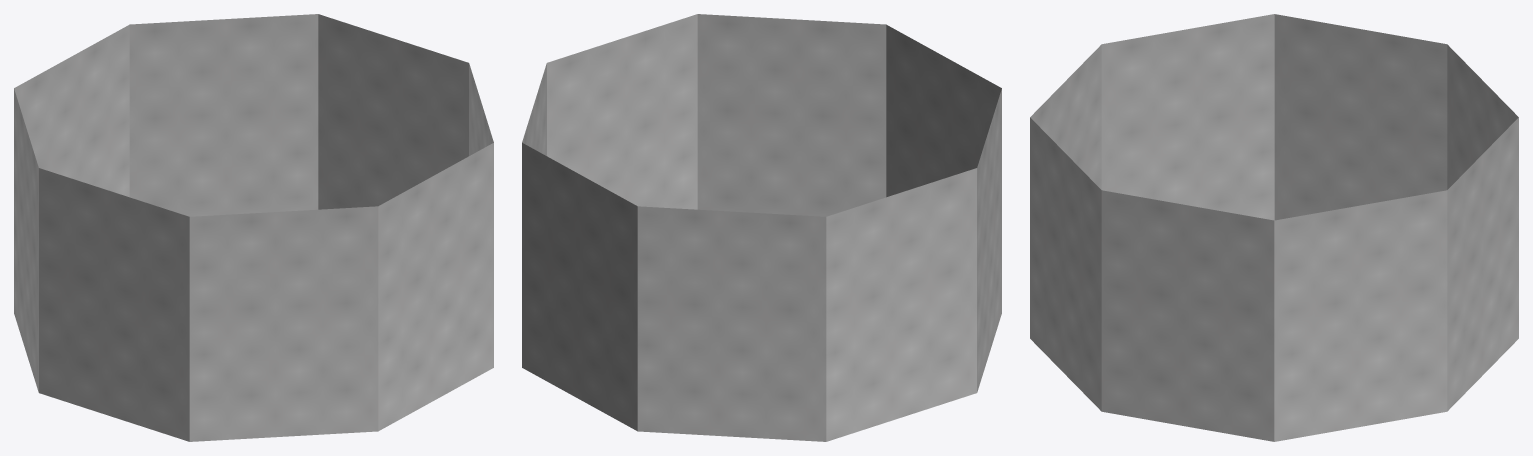
The model's file is Fripperies_B1.fbx.
The picture shows the model from 3 angles, left to right: view 1: azimuth 30°, elevation 25°; view 2: azimuth 150°, elevation 25°; view 3: azimuth 270°, elevation 25°; orthographic projection.
Parts seen in each view (by area): view 1: Cylinder.001; view 2: Cylinder.001; view 3: Cylinder.001.
Part boxes in pixels (<box>): Cylinder.001: <box>14,14,493,441</box>; Cylinder.001: <box>522,14,1001,441</box>; Cylinder.001: <box>1030,14,1518,441</box>.
Size of the model in its own units: 200 by 100 by 200.
1 material, 1 textured.
